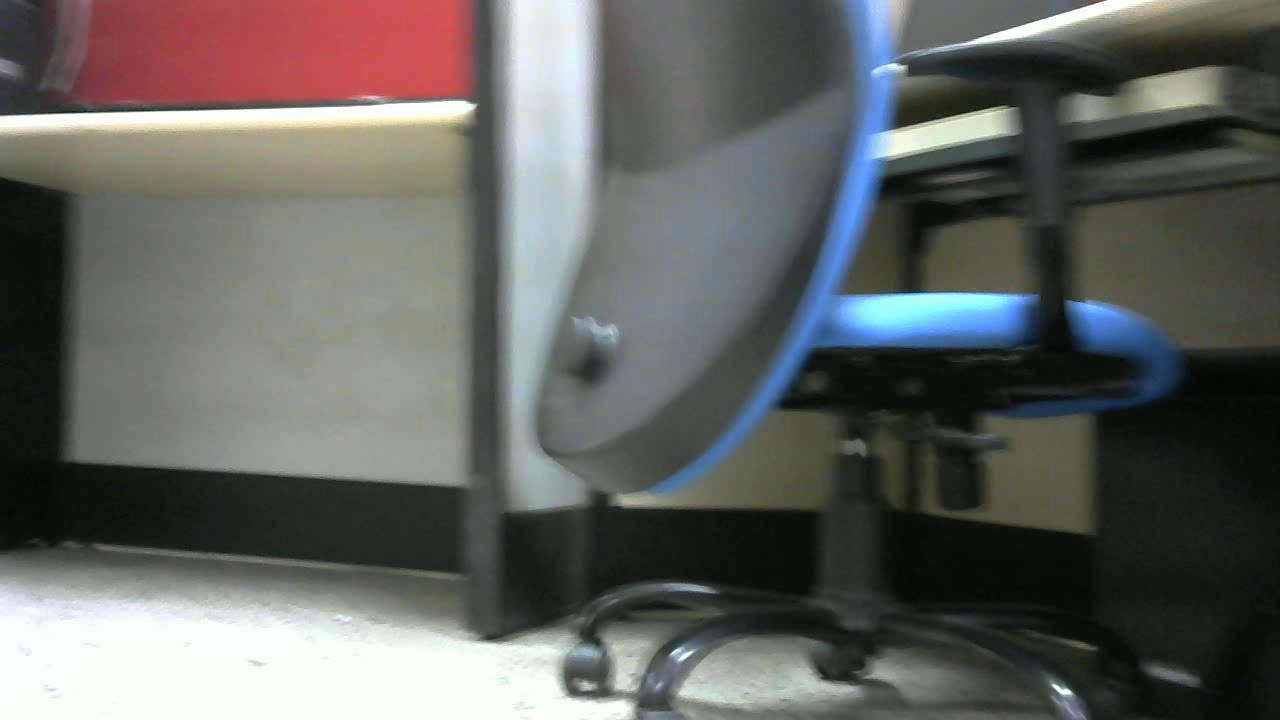chair: (530, 3, 1183, 720)
